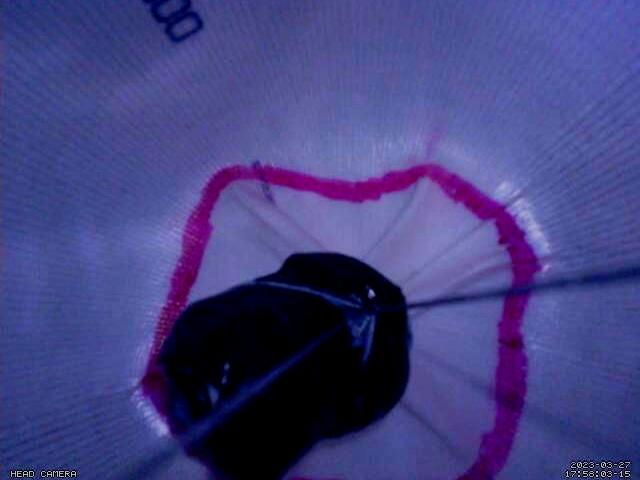red-circle: (139, 162, 543, 480)
